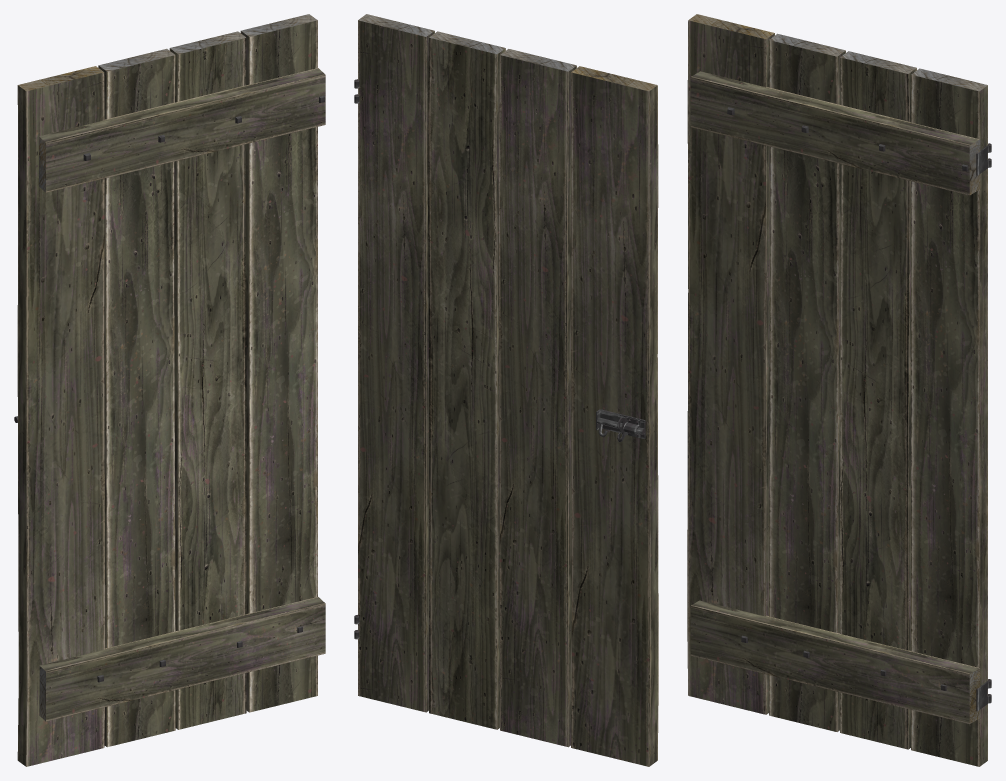
Rendered from SM_FishingPort_DoorSingle.fbx.
3 renders of one model, left to right at view 1: azimuth 30°, elevation 25°; view 2: azimuth 150°, elevation 25°; view 3: azimuth 330°, elevation 25°, orthographic.
Parts seen in each view (by area): view 1: FishingPort_DoorSingle; view 2: FishingPort_DoorSingle; view 3: FishingPort_DoorSingle.
Boxes of the visible parts, bbox=[...] form: FishingPort_DoorSingle: bbox=[14, 14, 325, 766]; FishingPort_DoorSingle: bbox=[354, 14, 658, 766]; FishingPort_DoorSingle: bbox=[687, 14, 991, 766].
Size of the model in its own units: 103 by 227 by 18.27.
